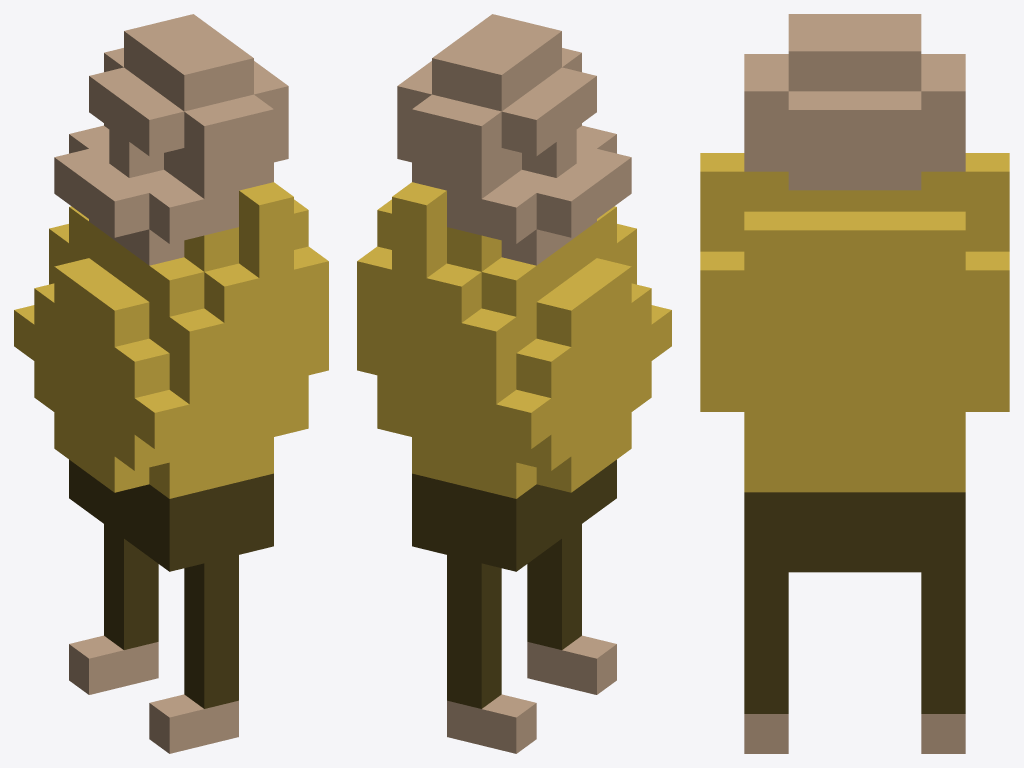
The model's file is orc-24-torso_stand.obj.
The picture shows the model from 3 angles, left to right: view 1: azimuth 30°, elevation 25°; view 2: azimuth 150°, elevation 25°; view 3: azimuth 270°, elevation 25°; orthographic projection. The views are drawn at different scales.
Parts seen in each view (by area): view 1: torso_stand; view 2: torso_stand; view 3: torso_stand.
Boxes of the visible parts, <box> form: torso_stand: <box>14,14,328,753</box>; torso_stand: <box>357,14,671,753</box>; torso_stand: <box>700,14,1009,753</box>.
Bounding box in the file's own units: 0.5 × 1.8 × 0.7.
1 material, 1 textured.
